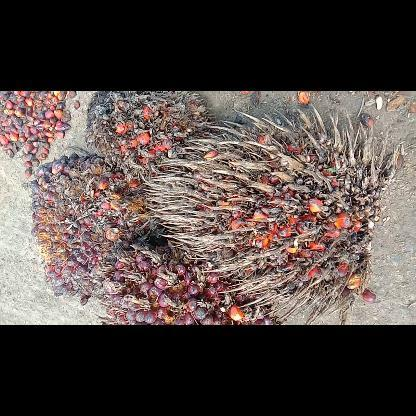TBS masak: (30, 153, 164, 305), (92, 240, 278, 324)
Terlalu masak: (142, 103, 400, 324), (86, 90, 212, 182)
